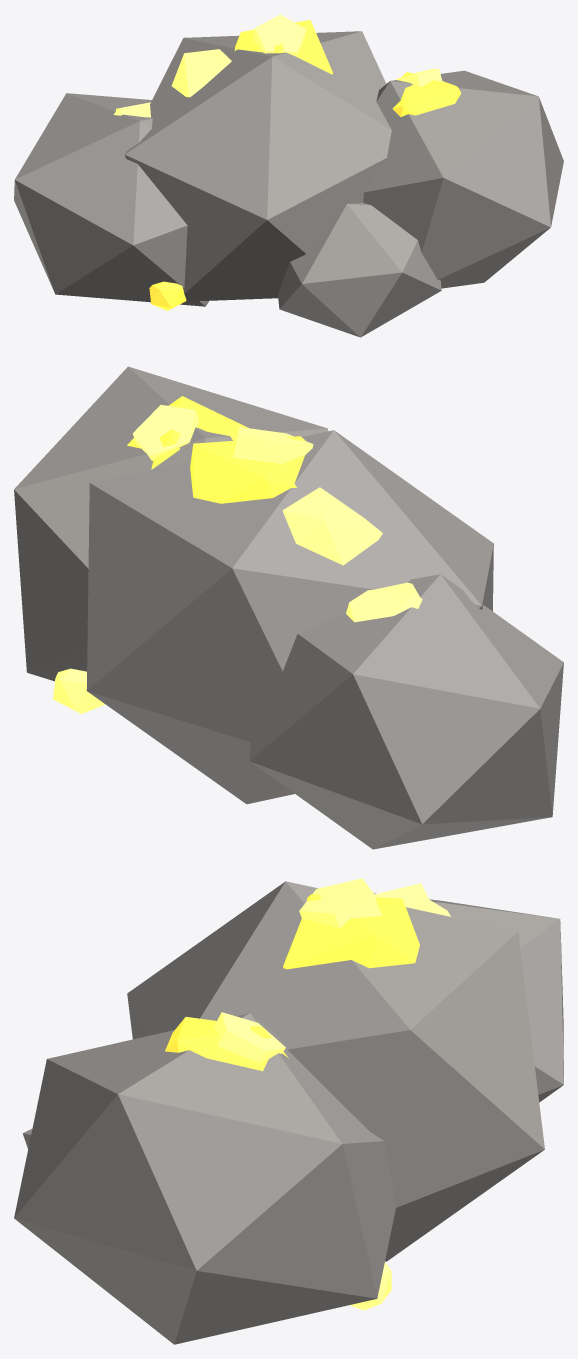
Rendered from gold_node.glb.
The picture shows the model from 3 angles, top to bottom: view 1: azimuth 30°, elevation 25°; view 2: azimuth 150°, elevation 25°; view 3: azimuth 270°, elevation 25°; orthographic projection. The views are drawn at different scales.
Parts seen in each view (by area): view 1: Gold_Rock_0.001, Gold_Rock_1.001, Gold_Rock_2.001, Gold_Rock_3.001, Gold_Vein_1.001, Gold_Vein_2.001, Gold_CrystalPeak_0.001, Gold_Vein_0.001, Gold_Shard_1.001, Gold_CrystalPeak_1.001; view 2: Gold_Rock_0.001, Gold_Rock_2.001, Gold_Rock_1.001, Gold_Vein_0.001, Gold_Vein_1.001, Gold_CrystalPeak_1.001, Gold_CrystalPeak_0.001, Gold_Vein_6.001, Gold_Vein_2.001, Gold_Shard_0.001; view 3: Gold_Rock_1.001, Gold_Rock_0.001, Gold_Rock_2.001, Gold_Vein_0.001, Gold_CrystalPeak_0.001, Gold_Vein_2.001, Gold_CrystalPeak_1.001, Gold_Vein_1.001, Gold_Shard_0.001.
Part boxes in pixels (x1,y1,x2,y2): Gold_Rock_0.001: (124,31,391,301); Gold_Rock_1.001: (363,70,563,288); Gold_Rock_2.001: (14,93,208,306); Gold_Rock_3.001: (278,203,441,337); Gold_Vein_1.001: (171,49,231,97); Gold_Vein_2.001: (392,72,461,116); Gold_CrystalPeak_0.001: (253,14,306,56); Gold_Vein_0.001: (234,20,332,74); Gold_Shard_1.001: (149,281,186,310); Gold_CrystalPeak_1.001: (396,68,442,87); Gold_Rock_0.001: (86,430,493,804); Gold_Rock_2.001: (249,574,563,849); Gold_Rock_1.001: (14,366,328,681); Gold_Vein_0.001: (190,436,305,503); Gold_Vein_1.001: (282,487,382,565); Gold_CrystalPeak_1.001: (132,405,199,460); Gold_CrystalPeak_0.001: (233,427,313,464); Gold_Vein_6.001: (346,582,422,622); Gold_Vein_2.001: (127,396,248,469); Gold_Shard_0.001: (53,668,105,713); Gold_Rock_1.001: (14,1013,396,1344); Gold_Rock_0.001: (127,881,544,1261); Gold_Rock_2.001: (373,893,563,1102); Gold_Vein_0.001: (283,894,419,969); Gold_CrystalPeak_0.001: (299,878,381,928); Gold_Vein_2.001: (165,1017,288,1071); Gold_CrystalPeak_1.001: (213,1012,285,1062); Gold_Vein_1.001: (374,883,435,913); Gold_Shard_0.001: (349,1262,391,1310).
Bounding box in the file's own units: 2.78 × 1.5 × 2.
